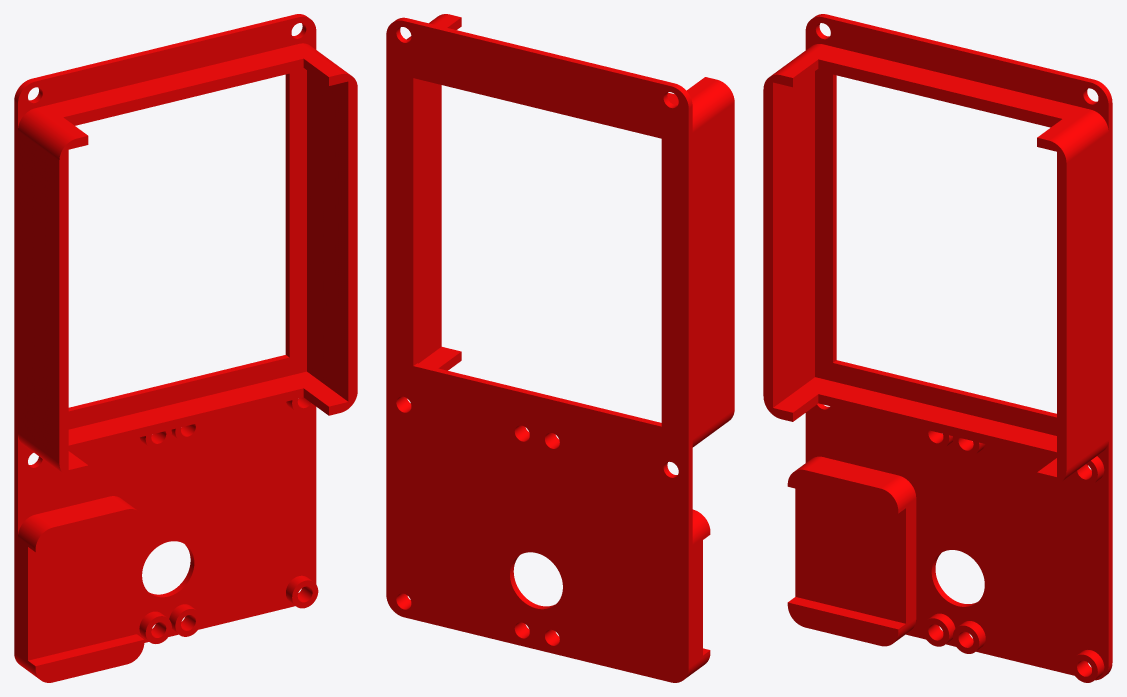
The model's file is battery_mount.glb.
The picture shows the model from 3 angles, left to right: view 1: azimuth 30°, elevation 25°; view 2: azimuth 150°, elevation 25°; view 3: azimuth 330°, elevation 25°; orthographic projection.
Bounding box in the file's own units: 0.0685 × 0.129 × 0.018.
